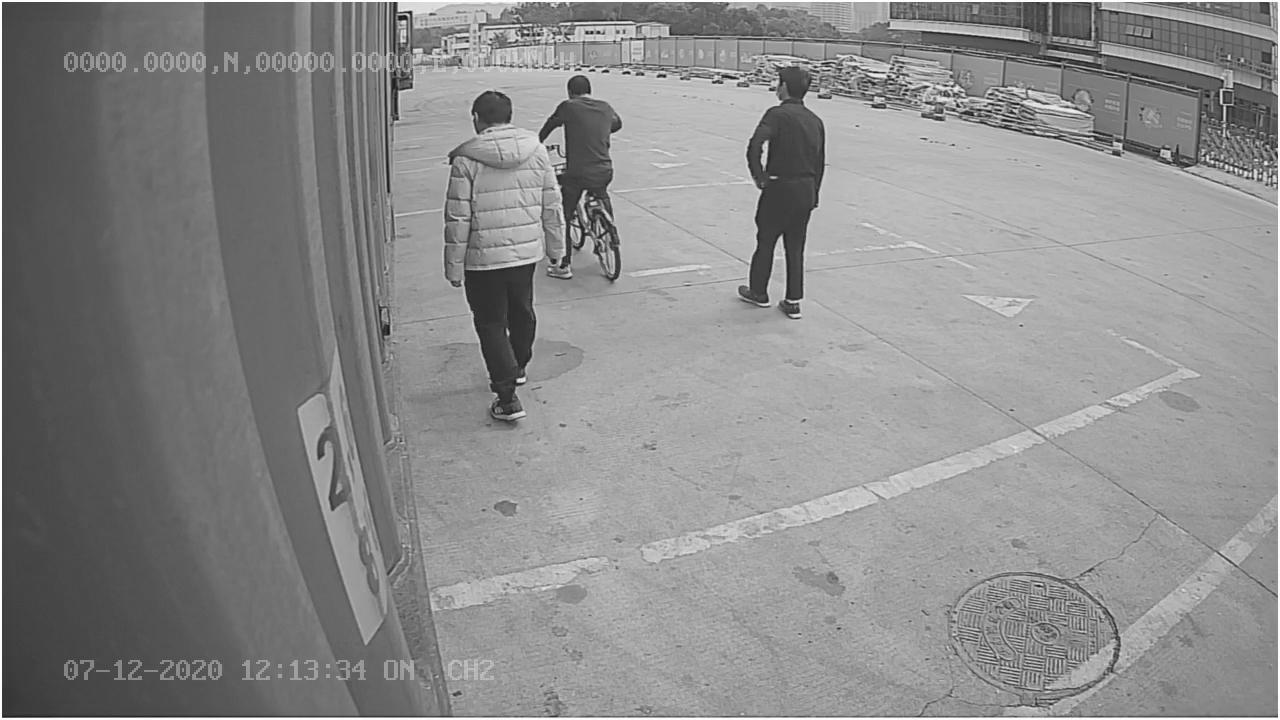person: (735, 56, 824, 322)
